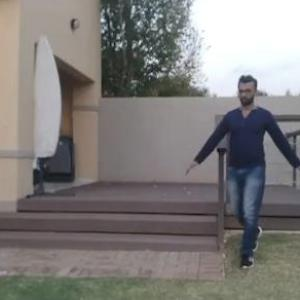land: (143, 50, 299, 286)
